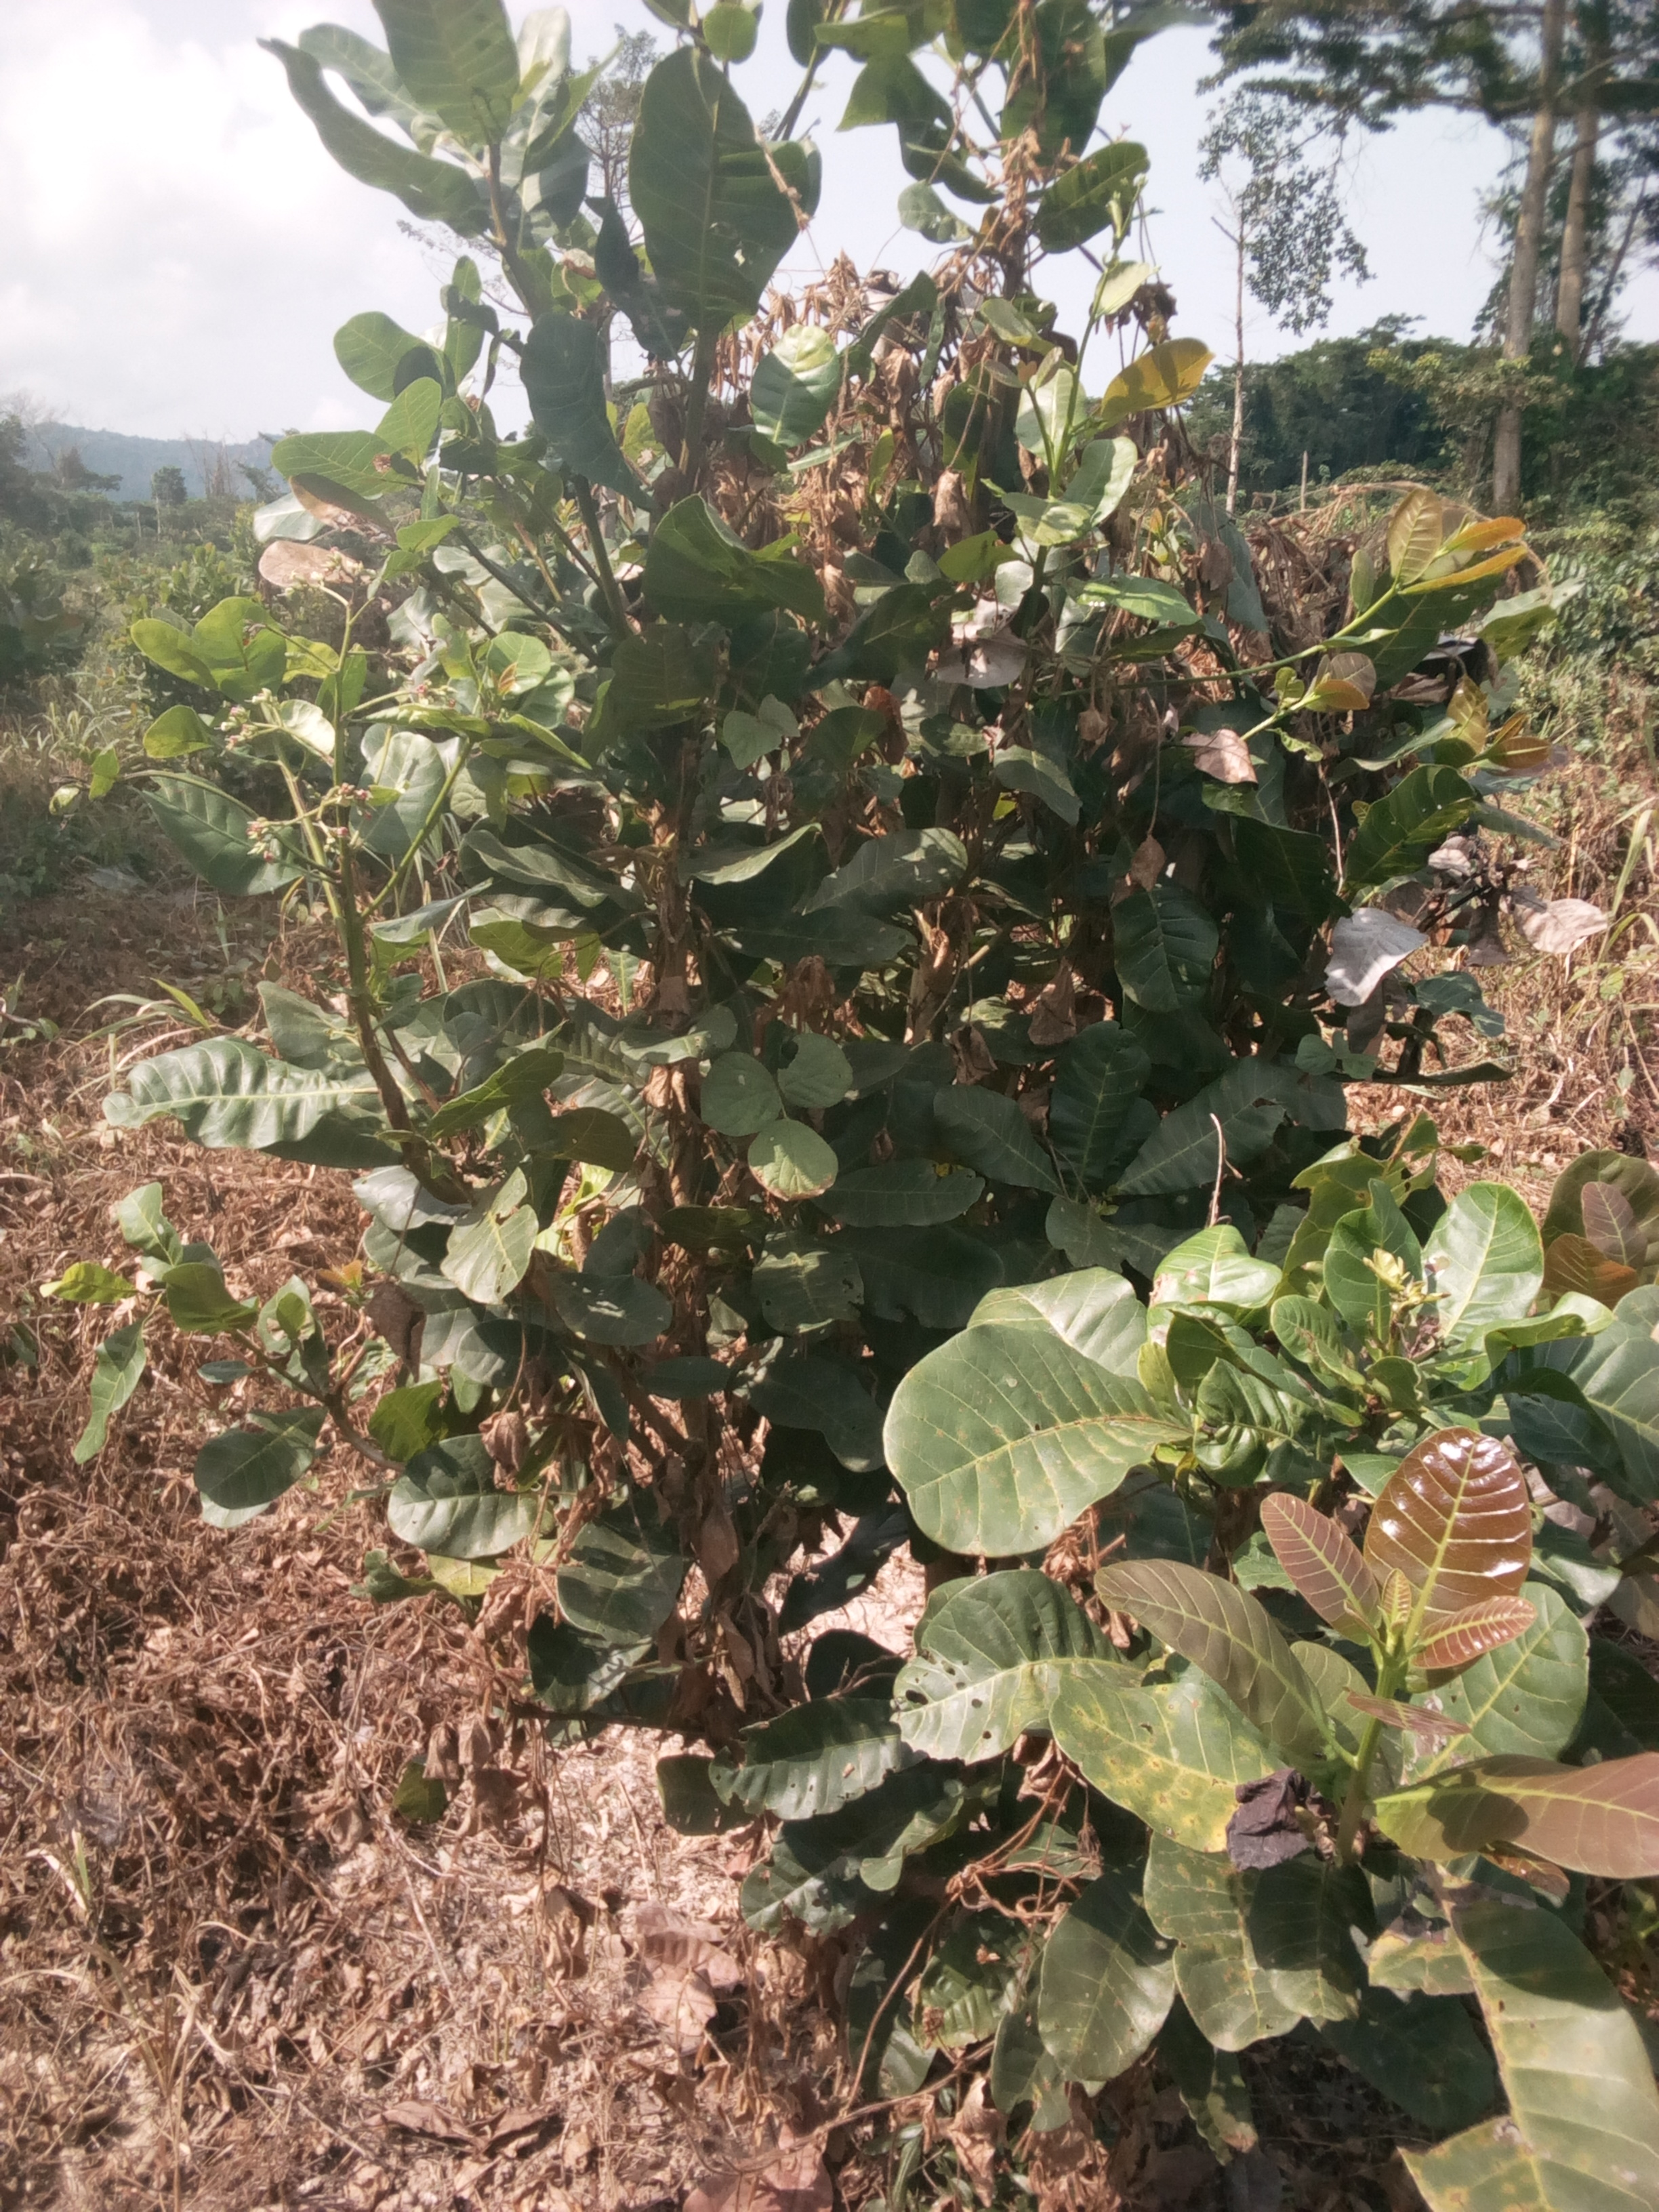Anoplonemis curvipes: (870, 1557, 1127, 1757)
